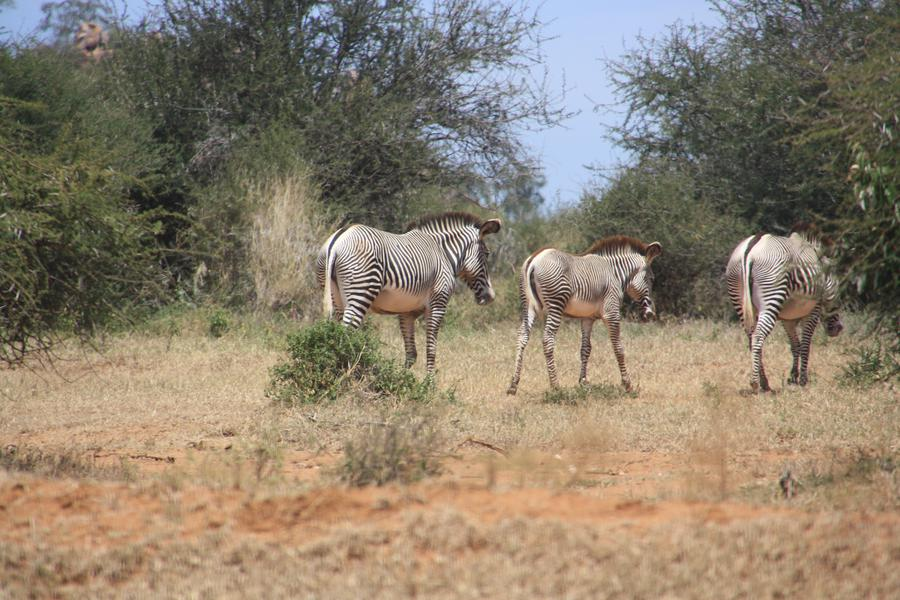zebra_grevys: (528, 244, 623, 316)
